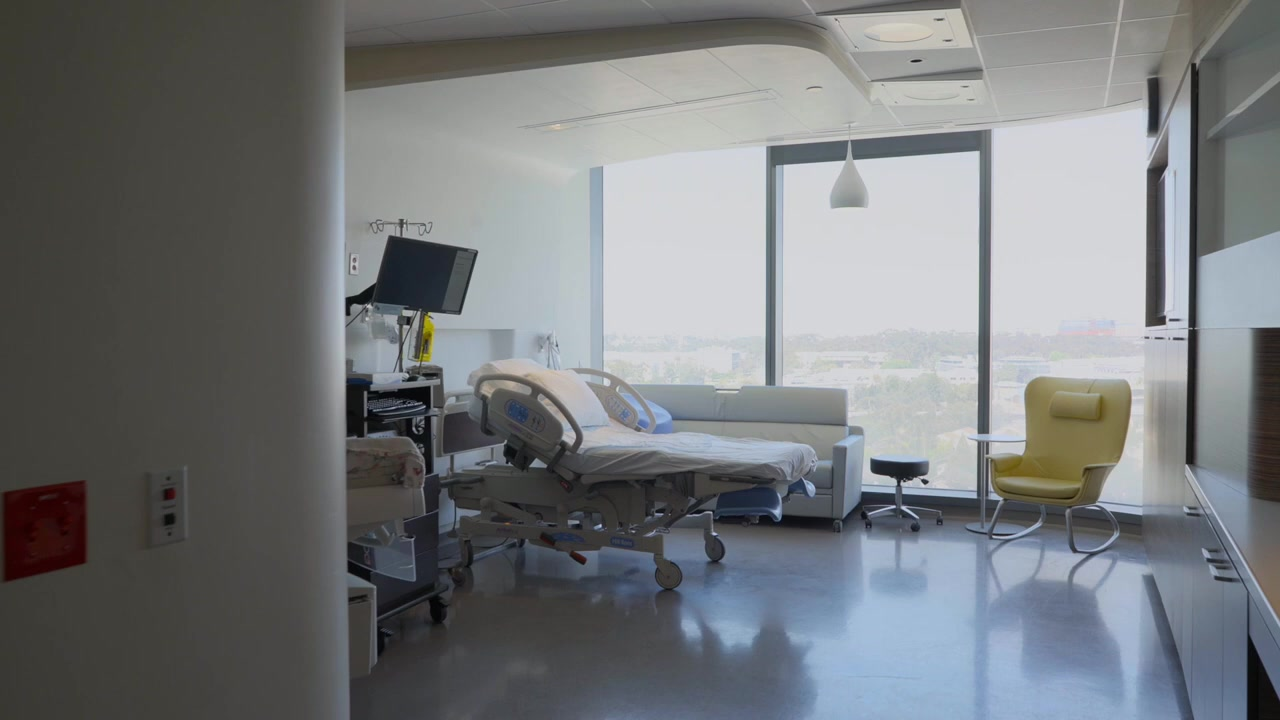bedrail: (474, 373, 583, 454), (564, 368, 657, 434)
bedside_monitor: (371, 235, 479, 315)
chair: (861, 454, 944, 532)
counter: (1186, 462, 1280, 624)
handle: (1208, 564, 1240, 585), (1200, 547, 1230, 563), (1183, 506, 1202, 518), (1169, 317, 1182, 323), (1173, 337, 1186, 341), (1153, 336, 1167, 339), (1142, 336, 1152, 340)
hospital_bed: (435, 357, 817, 589)
iv_pole: (369, 218, 438, 238)
keyboard: (367, 398, 426, 418)
mouse: (406, 375, 427, 382)
sofa: (619, 384, 864, 532), (985, 376, 1132, 555)
table: (965, 433, 1028, 537)
